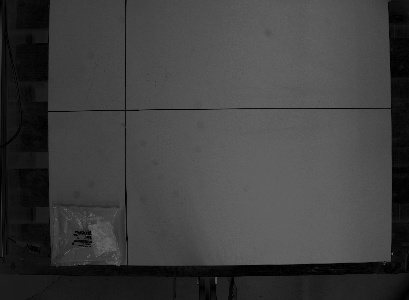t3: (47, 199, 127, 270)
